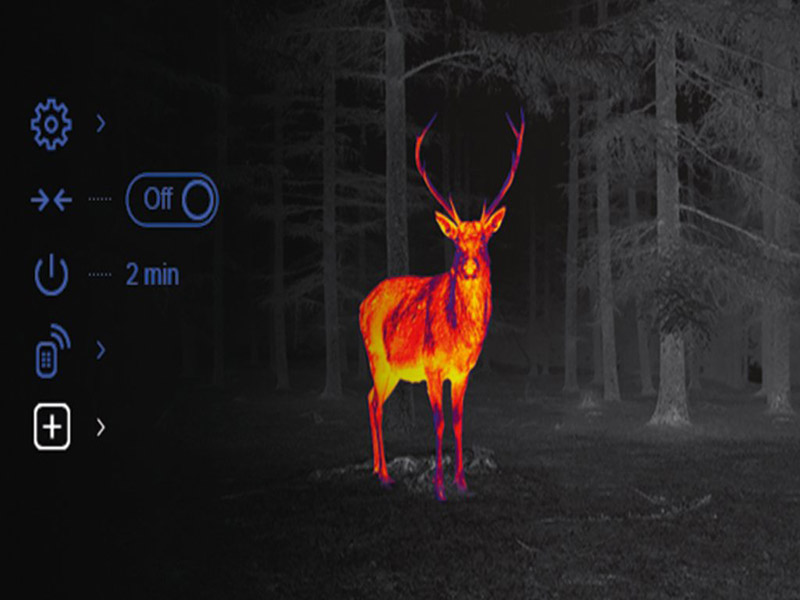cervo: (354, 102, 541, 505)
